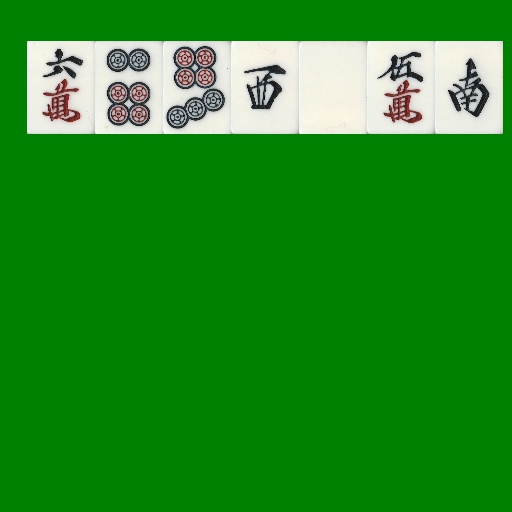5m: (367, 41, 435, 134)
6m: (27, 41, 95, 134)
6p: (95, 41, 163, 134)
7p: (163, 41, 231, 134)
south: (435, 41, 503, 134)
west: (231, 41, 299, 134)
white: (299, 41, 367, 134)
